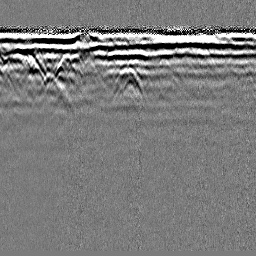cavity: (111, 65, 146, 97)
